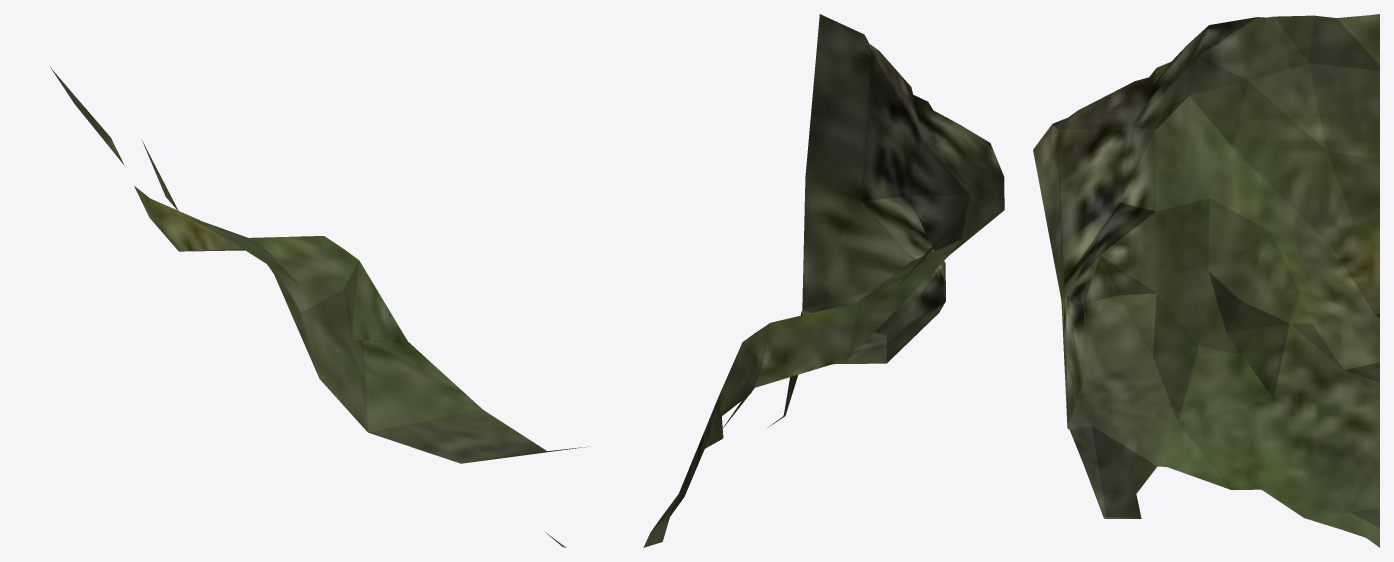
3 renders of one model, left to right at view 1: azimuth 30°, elevation 25°; view 2: azimuth 150°, elevation 25°; view 3: azimuth 270°, elevation 25°, orthographic. The views are drawn at different scales.
Size of the model in its own units: 1.11 by 1.51 by 1.2.
Materials: 1 (1 with a texture image).
